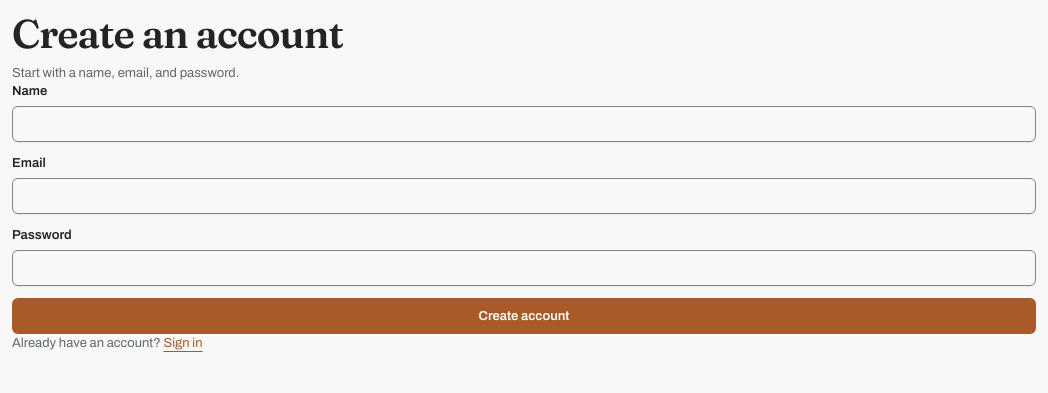
Test: RegisterView › field-level error messages › shows password field error under password input when PASSWORD_TOO_SHORT is returned
This screenshot has width=1048, height=393.
Type "Ayşe" into the field labelled "Name" at x=524, y=124, box [12,106,1036,142]
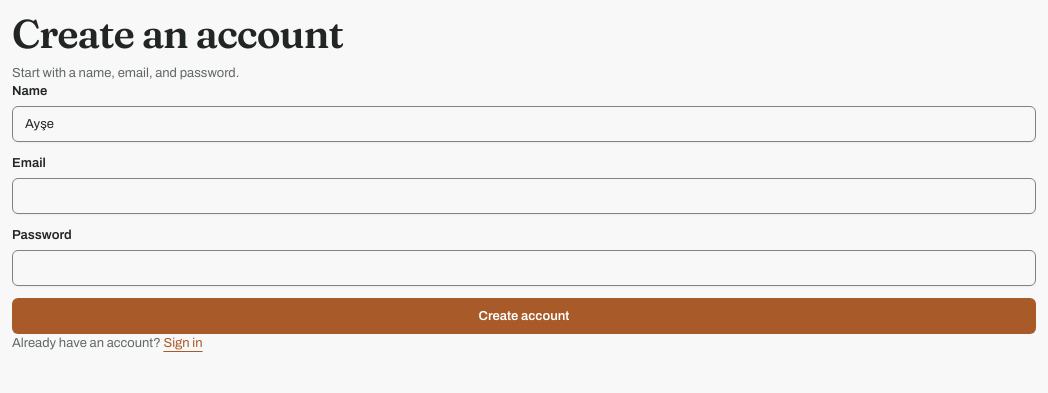
Type "ayse@example.com" into the field labelled "Email" at x=524, y=196, box [12,178,1036,214]
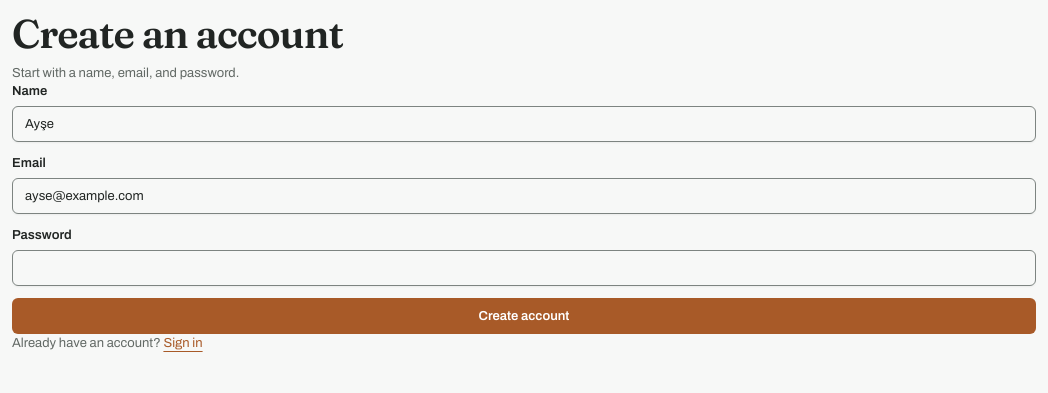
Type "correct-horse" into the password field labelled "Password" at x=524, y=268, box [12,250,1036,286]
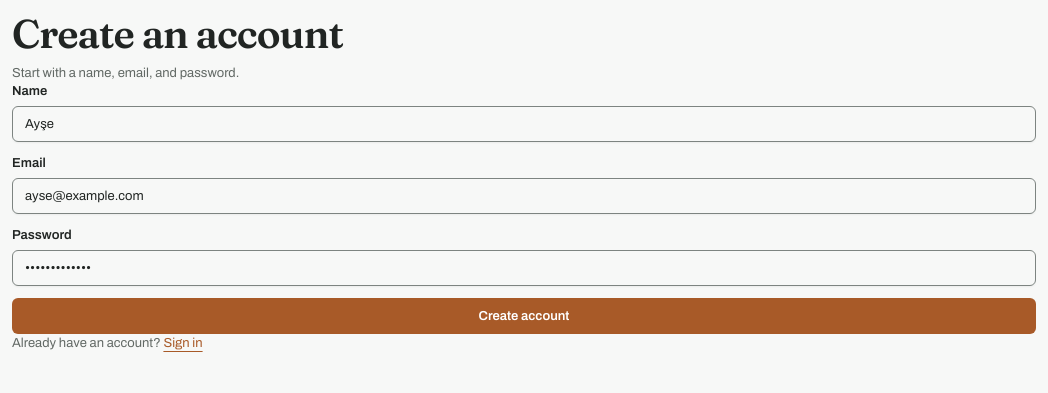
Click the button "Create account" at x=524, y=316, box [12,298,1036,334]
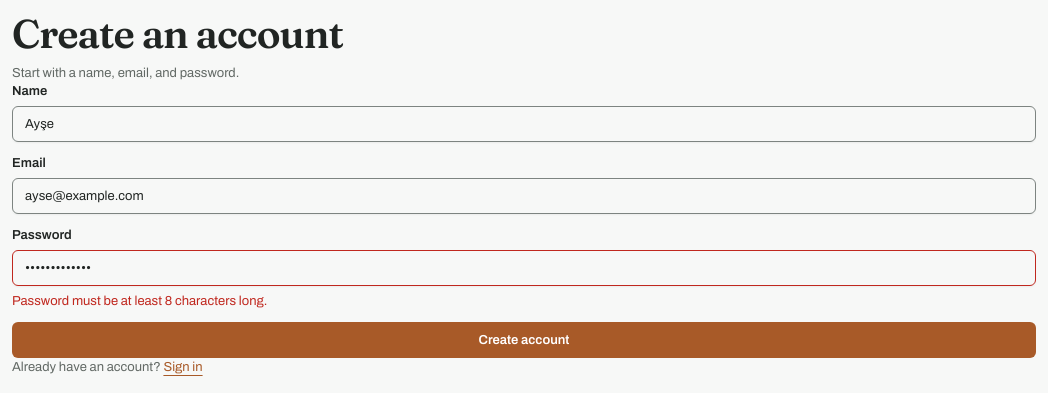
expect the text "Password must be at least 8 characters long." is shown: met, box [12,294,267,308]
